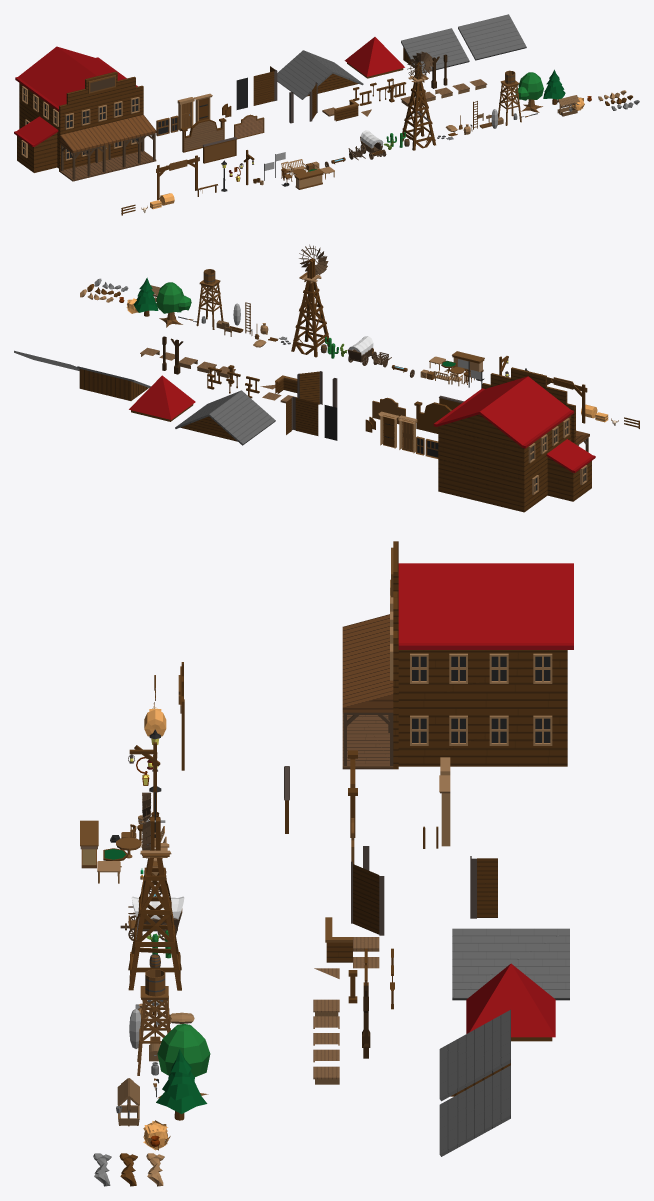
File: low_poly_wild_west_environment.fbx
3 views of the same model, one above another, from view 1: azimuth 30°, elevation 25°; view 2: azimuth 150°, elevation 25°; view 3: azimuth 270°, elevation 25° (orthographic). The views are drawn at different scales.
Parts seen in each view (by area): view 1: main_building, facade, roof0, roof3, awning, windmill, side_building, roof2, roof1, platform, facade0, water_tank (+12 smaller); view 2: main_building, roof0, windmill, side_building, roof1, roof2, facade, water_tank, wall0_corner1, facade0, wall0_corner0, tree0_leaves0 (+7 smaller); view 3: main_building, roof0, windmill, awning, roof1, roof2, roof3, platform, wall0_corner1, tree0_leaves0, water_tank, tree1 (+2 smaller).
Part boxes in pixels (<box>): main_building: <box>15,46,137,168</box>; facade: <box>59,71,143,171</box>; roof0: <box>277,50,363,99</box>; roof3: <box>458,14,526,60</box>; awning: <box>60,115,156,152</box>; windmill: <box>402,51,435,150</box>; side_building: <box>14,116,58,172</box>; roof2: <box>401,28,469,73</box>; roof1: <box>344,37,404,78</box>; platform: <box>60,151,156,181</box>; facade0: <box>180,118,226,152</box>; water_tank: <box>498,70,521,125</box>; main_building: <box>433,376,573,512</box>; roof0: <box>175,390,275,445</box>; windmill: <box>291,244,328,357</box>; side_building: <box>546,439,595,501</box>; roof1: <box>129,375,195,421</box>; roof2: <box>77,366,150,400</box>; facade: <box>482,367,575,444</box>; water_tank: <box>196,269,223,329</box>; wall0_corner1: <box>297,371,322,404</box>; facade0: <box>414,401,451,433</box>; wall0_corner0: <box>286,397,305,434</box>; tree0_leaves0: <box>156,282,183,313</box>; main_building: <box>398,563,573,766</box>; roof0: <box>452,928,569,1000</box>; windmill: <box>128,792,181,990</box>; awning: <box>342,614,393,712</box>; roof1: <box>466,963,555,1041</box>; roof2: <box>439,1009,510,1101</box>; roof3: <box>439,1065,510,1156</box>; platform: <box>342,712,393,769</box>; wall0_corner1: <box>351,861,384,935</box>; tree0_leaves0: <box>157,1023,210,1076</box>; water_tank: <box>137,969,170,1075</box>; tree1: <box>156,1049,207,1120</box>.
Bounding box in the file's own units: 46.37 × 8.27 × 18.74.
